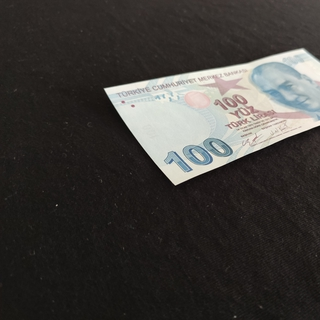100TLFront: (103, 47, 320, 185)
